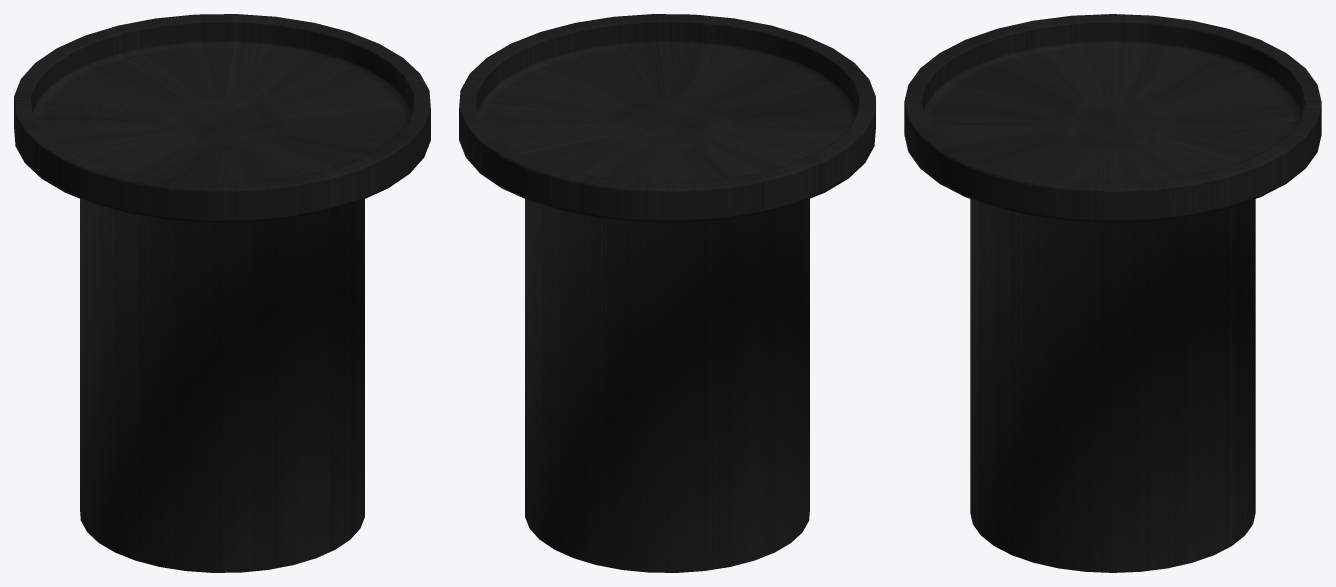
The model's file is dioramaStand.fbx.
3 renders of one model, left to right at view 1: azimuth 30°, elevation 25°; view 2: azimuth 150°, elevation 25°; view 3: azimuth 270°, elevation 25°, orthographic.
Parts seen in each view (by area): view 1: dioramaStand; view 2: dioramaStand; view 3: dioramaStand.
Boxes of the visible parts, x1=… form: dioramaStand: x1=14, y1=14, x2=430, y2=572; dioramaStand: x1=459, y1=14, x2=875, y2=572; dioramaStand: x1=904, y1=14, x2=1321, y2=572.
Size of the model in its own units: 207 by 224 by 207.
Materials: 1 (1 with a texture image).
